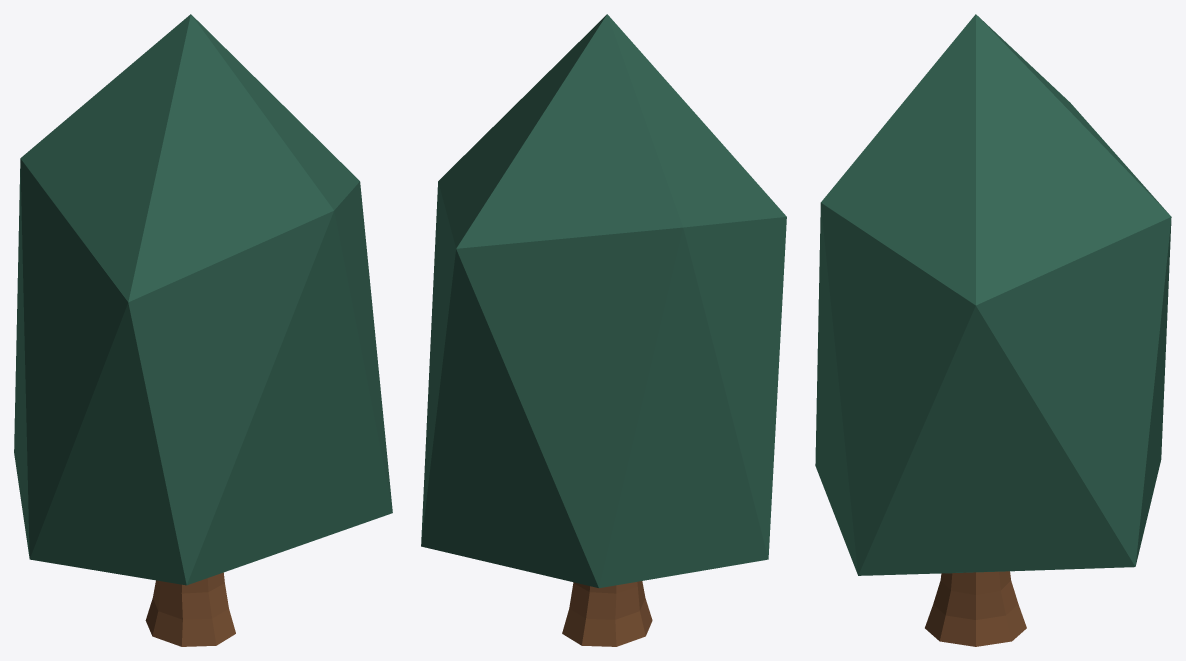
Rendered from bush2.fbx.
3 views of the same model, side by side, from view 1: azimuth 30°, elevation 25°; view 2: azimuth 150°, elevation 25°; view 3: azimuth 270°, elevation 25° (orthographic).
Visible parts, largest first — view 1: Icosphere; view 2: Icosphere; view 3: Icosphere.
Part boxes in pixels (x1,y1,x2,y2): Icosphere: (14, 14, 392, 646); Icosphere: (421, 14, 786, 646); Icosphere: (815, 14, 1171, 646).
Size of the model in its own units: 108 by 192 by 101.
